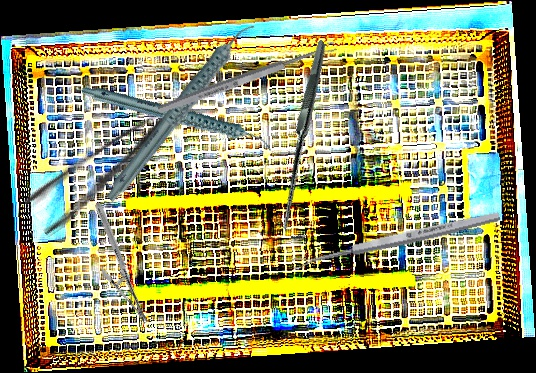Dressing Forceps: (21, 85, 220, 238)
Handpiece: (77, 21, 287, 204), (80, 48, 275, 188)
Hook Surgical: (206, 39, 412, 245)
Needle Holder: (56, 201, 187, 325)
Surgical Spoon: (156, 40, 338, 116), (291, 209, 501, 271)
